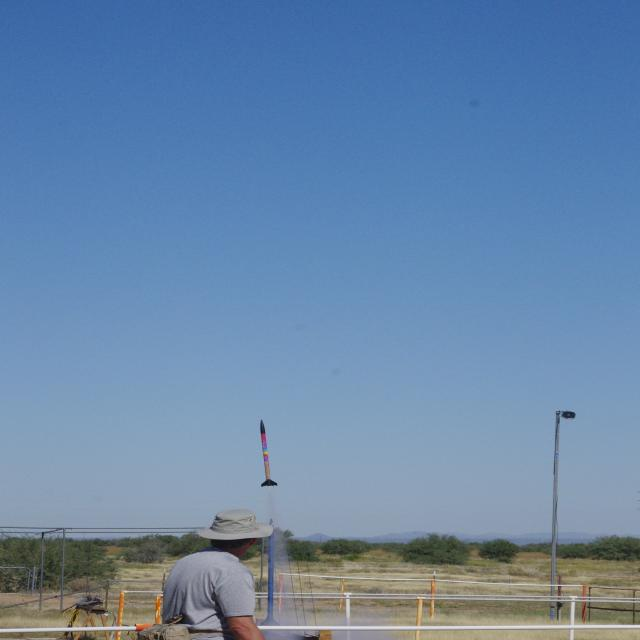Rocket: (260, 518, 280, 626), (259, 419, 279, 487)
